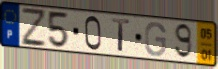0: (84, 15, 102, 52)
5: (46, 10, 72, 50)
9: (173, 23, 194, 61)
G: (143, 20, 167, 58)
T: (111, 17, 131, 55)
Z: (20, 6, 48, 48)
